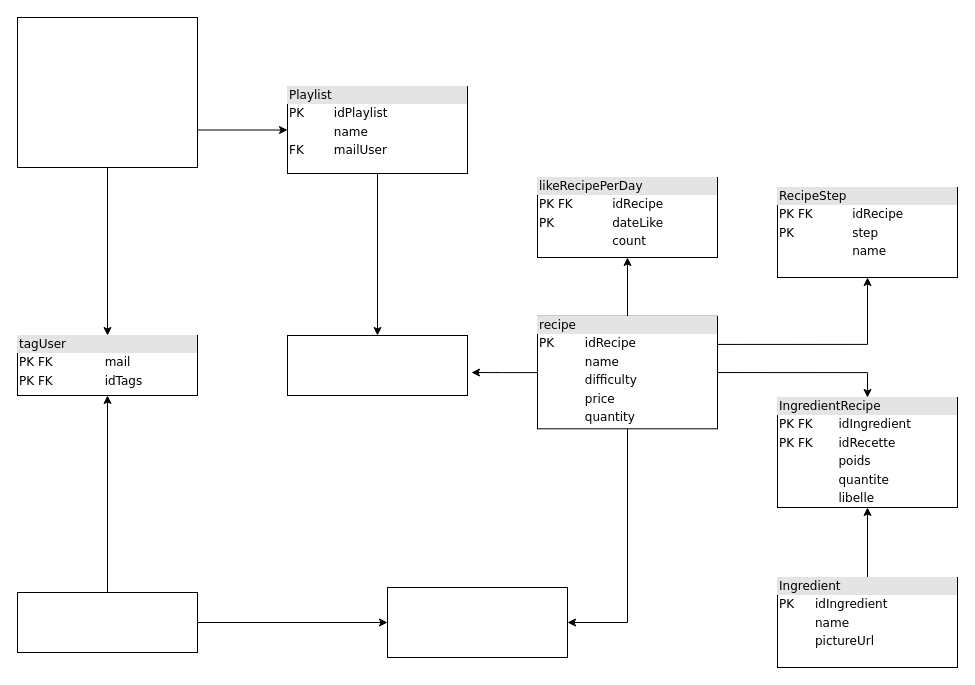
This 975x685 diagram has some shape labels left out. Here are the shapes that lost their labels. From the top down, the centre of each, then its label:
At (x=107, y=92): "User PK mail firstname lastname password price difficulty gender".
At (x=377, y=365): "recipePlaylist PK FK idPlaylist PK FK idRecipe".
At (x=107, y=622): "tag PK idTags name".
At (x=477, y=622): "tagRecIpe PK FK idTags PK FK idRecette".
